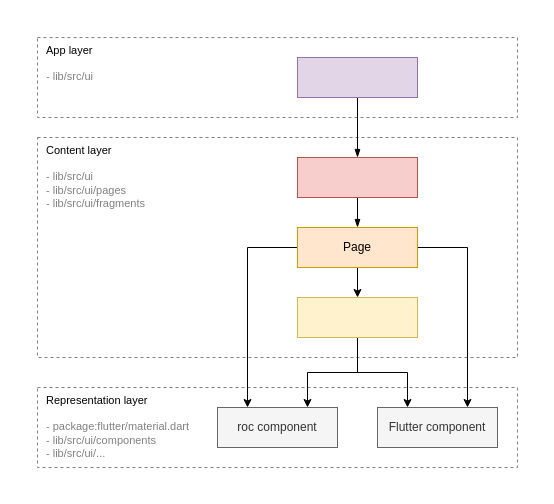
This 554x504 diagram has some shape labels left out. Here are the shapes that lost their labels. From the top down, the centre of each, then its label:
At (357,77): "App root".
At (357,177): "Screen".
At (357,317): "Fragment".
